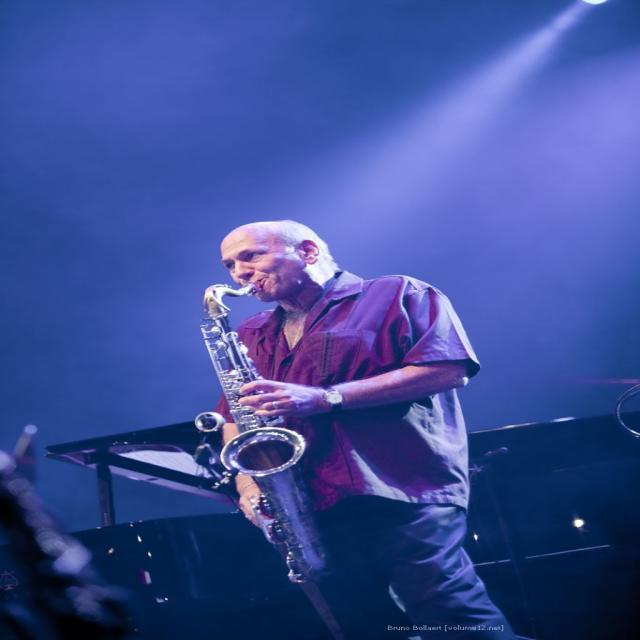saxophone: (197, 279, 298, 583)
